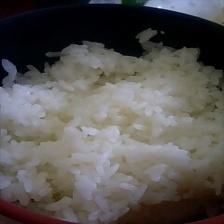rice: (2, 34, 224, 224)
